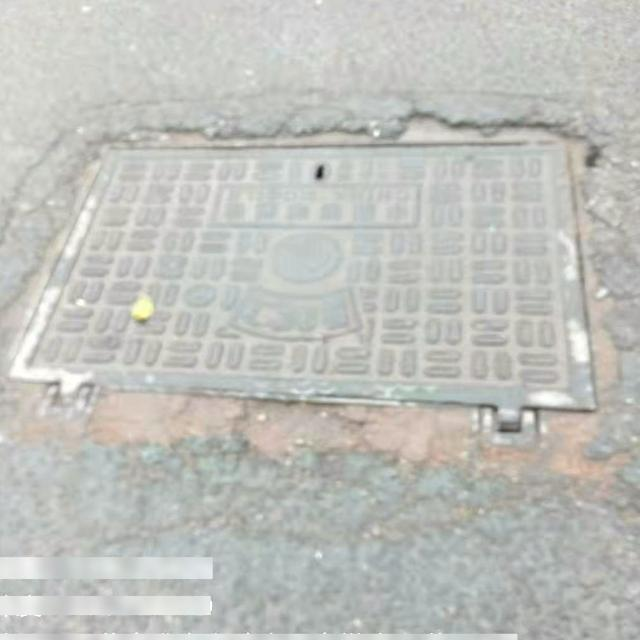good: (5, 133, 597, 443)
